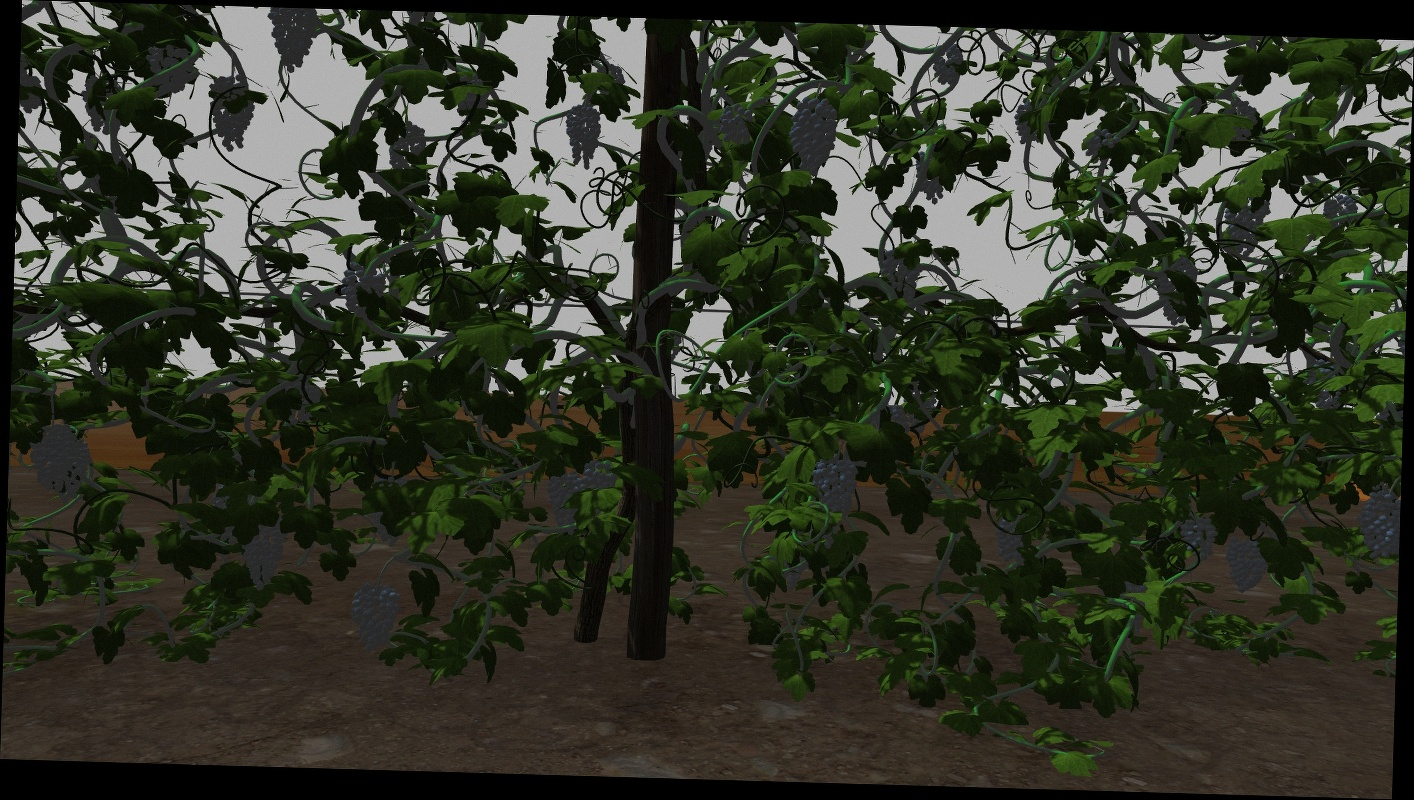grape: (29, 425, 91, 496), (206, 73, 257, 152), (789, 96, 839, 176), (265, 10, 324, 76), (349, 583, 400, 654), (338, 259, 389, 326), (143, 43, 204, 99), (240, 523, 286, 596), (1359, 484, 1397, 565), (1219, 197, 1270, 257), (814, 450, 858, 518), (1155, 258, 1199, 323), (546, 474, 585, 539), (1224, 535, 1266, 595), (882, 240, 921, 304), (566, 103, 603, 170), (385, 120, 430, 175), (450, 69, 491, 127), (1181, 513, 1218, 564), (991, 518, 1028, 568), (1221, 100, 1260, 145), (582, 458, 623, 498), (721, 103, 757, 147), (1322, 193, 1361, 233), (914, 153, 944, 205), (931, 45, 967, 88), (1081, 124, 1118, 162), (1014, 97, 1040, 145)
